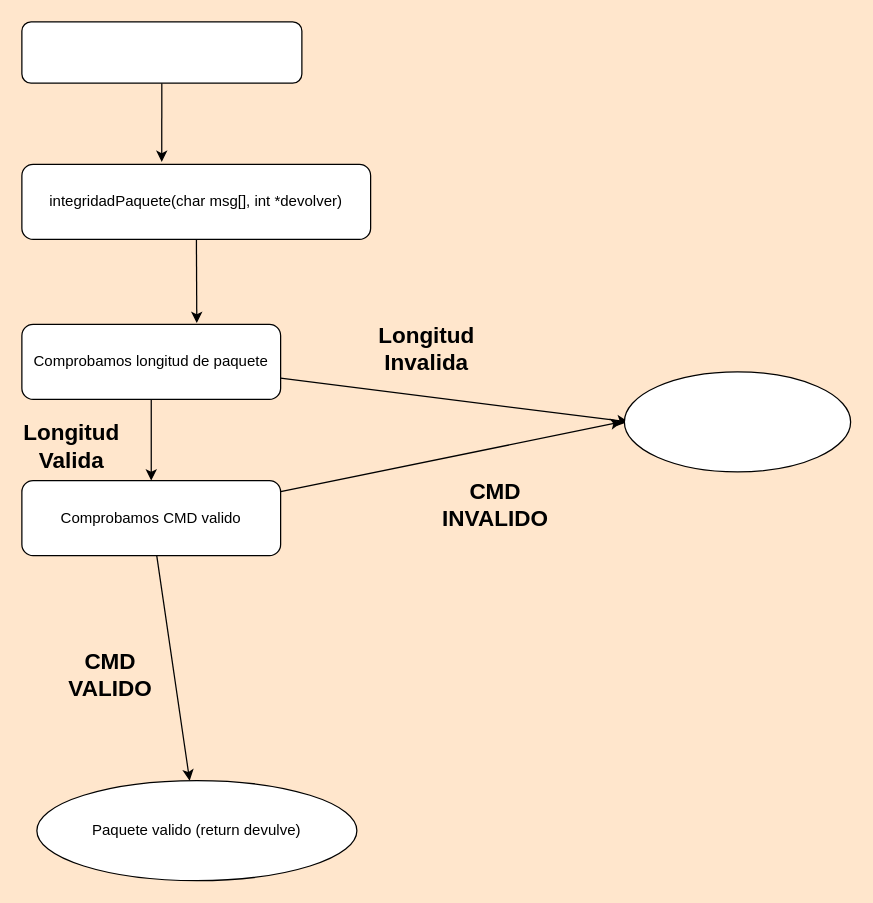
This 873x903 diagram has some shape labels left out. Here are the shapes that lost their labels. From the top down, the box of each, then its label:
(21, 21, 302, 83): Llega Paquete
(623, 371, 851, 472): Paquete no valido (return 0)
